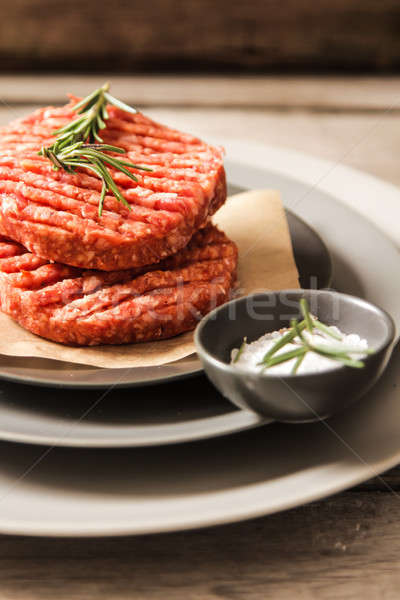ground_beef: (1, 93, 231, 243), (2, 230, 239, 338)
